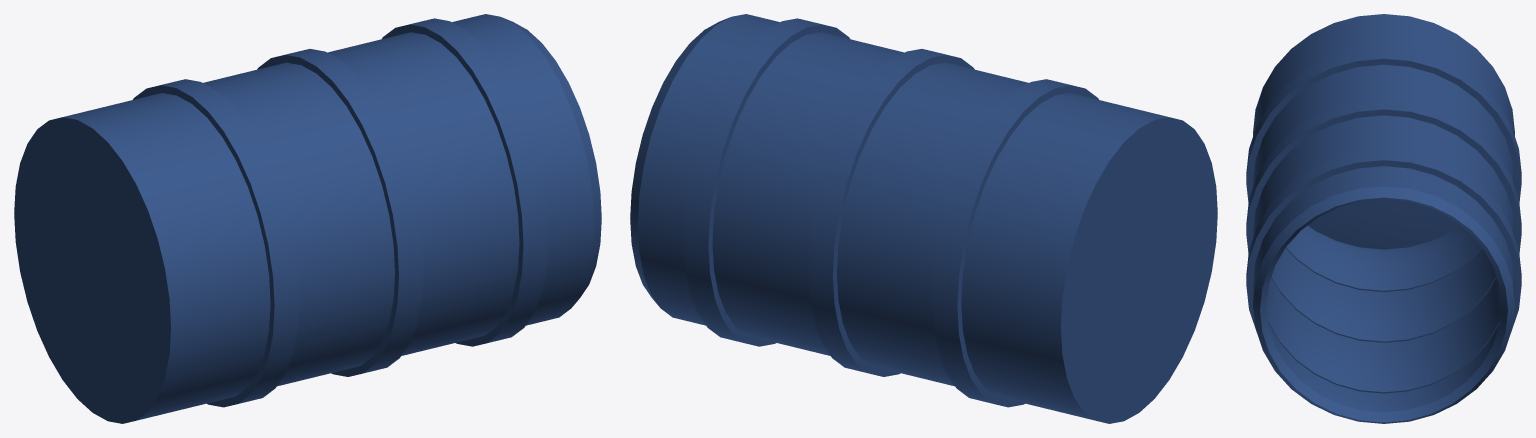
File: Barrel.fbx
The picture shows the model from 3 angles, left to right: view 1: azimuth 30°, elevation 25°; view 2: azimuth 150°, elevation 25°; view 3: azimuth 270°, elevation 25°; orthographic projection. The views are drawn at different scales.
Visible parts, largest first — view 1: Cylinder.001; view 2: Cylinder.001; view 3: Cylinder.001.
Part boxes in pixels (x1=…): Cylinder.001: x1=14, y1=14, x2=601, y2=423; Cylinder.001: x1=630, y1=14, x2=1217, y2=423; Cylinder.001: x1=1246, y1=14, x2=1521, y2=423.
Size of the model in its own units: 312 by 205 by 205.
